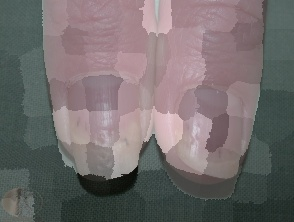Nail_psoriasis: (144, 54, 271, 199), (54, 43, 155, 186)
